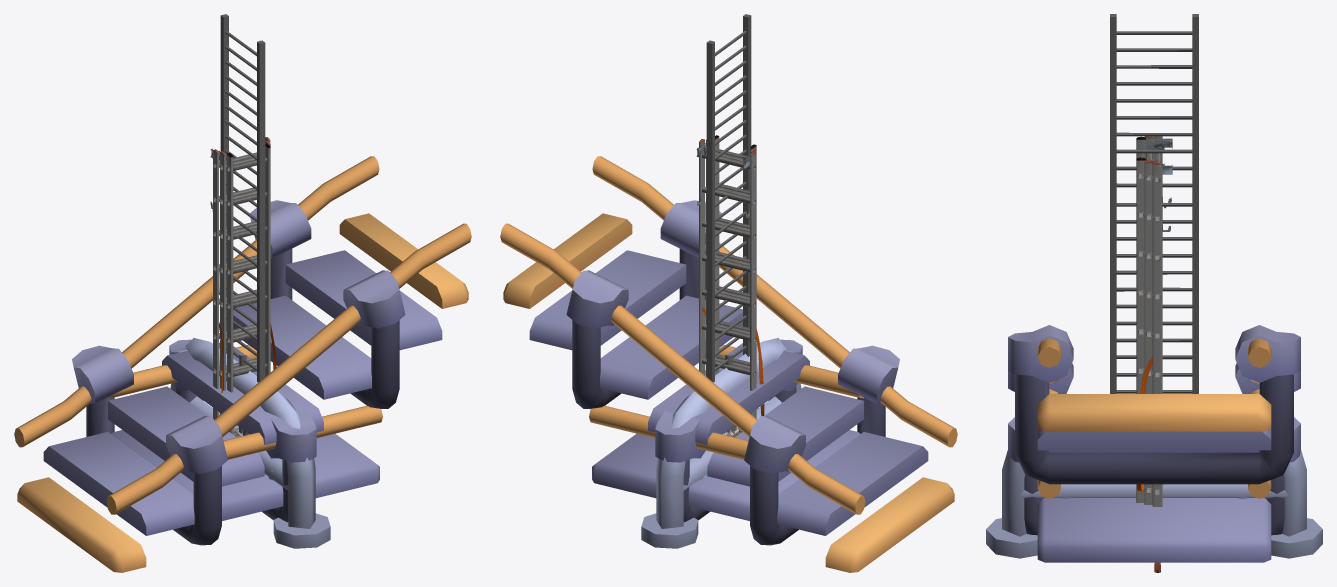
The model's file is alturas.glb.
3 renders of one model, left to right at view 1: azimuth 30°, elevation 25°; view 2: azimuth 150°, elevation 25°; view 3: azimuth 270°, elevation 25°, orthographic. The views are drawn at different scales.
Visible parts, largest first — view 1: catwalk-stairs, catwalk-straight, Cube.003, construction-fence, ladder_section_03, ladder_section_01, ladder_section_02; view 2: catwalk-stairs, catwalk-straight, Cube.003, construction-fence, ladder_section_01, ladder_section_03, ladder_section_02; view 3: catwalk-stairs, catwalk-straight, Cube.003, construction-fence, ladder_section_01, ladder_section_02, ladder_section_03.
Boxes of the visible parts, bbox=[...] form: catwalk-stairs: bbox=[14, 156, 471, 572]; catwalk-straight: bbox=[108, 339, 382, 522]; Cube.003: bbox=[220, 14, 265, 382]; construction-fence: bbox=[170, 337, 330, 548]; ladder_section_03: bbox=[226, 144, 270, 434]; ladder_section_01: bbox=[210, 137, 270, 435]; ladder_section_02: bbox=[218, 140, 270, 437]; catwalk-stairs: bbox=[500, 156, 957, 572]; catwalk-straight: bbox=[589, 339, 863, 522]; Cube.003: bbox=[706, 14, 751, 382]; construction-fence: bbox=[641, 337, 801, 548]; ladder_section_01: bbox=[696, 139, 756, 437]; ladder_section_03: bbox=[715, 135, 756, 432]; ladder_section_02: bbox=[703, 139, 756, 434]; catwalk-stairs: bbox=[1008, 325, 1300, 484]; catwalk-straight: bbox=[1008, 389, 1300, 562]; Cube.003: bbox=[1110, 14, 1198, 393]; construction-fence: bbox=[986, 450, 1322, 558]; ladder_section_01: bbox=[1152, 136, 1172, 572]; ladder_section_02: bbox=[1144, 136, 1164, 504]; ladder_section_03: bbox=[1136, 136, 1154, 502].
Size of the model in its own units: 3.2 by 4 by 2.31.
9 materials, 3 textured.
